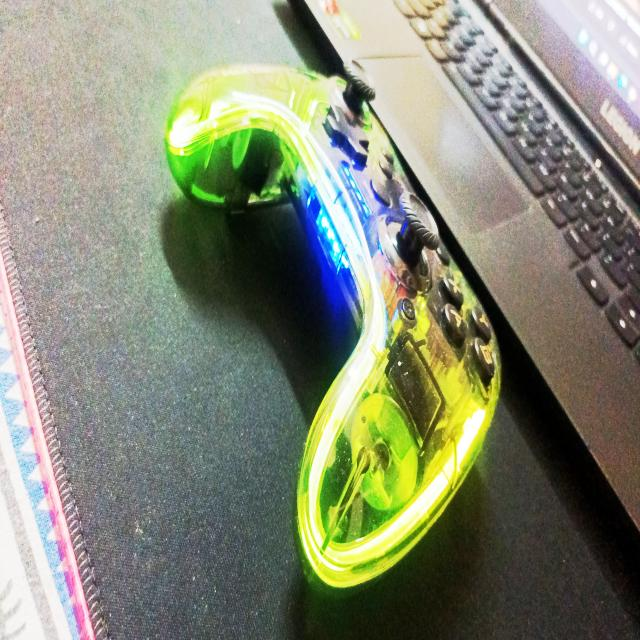gamepad: (164, 60, 503, 592)
